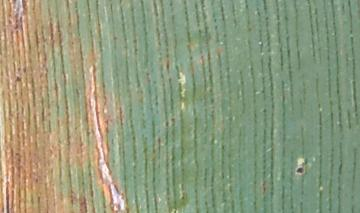tarspot: (294, 166, 306, 175), (14, 75, 23, 83), (260, 106, 268, 115), (33, 176, 41, 184), (21, 65, 27, 75), (164, 119, 170, 129), (16, 65, 22, 72), (111, 35, 118, 41), (117, 1, 123, 5)
